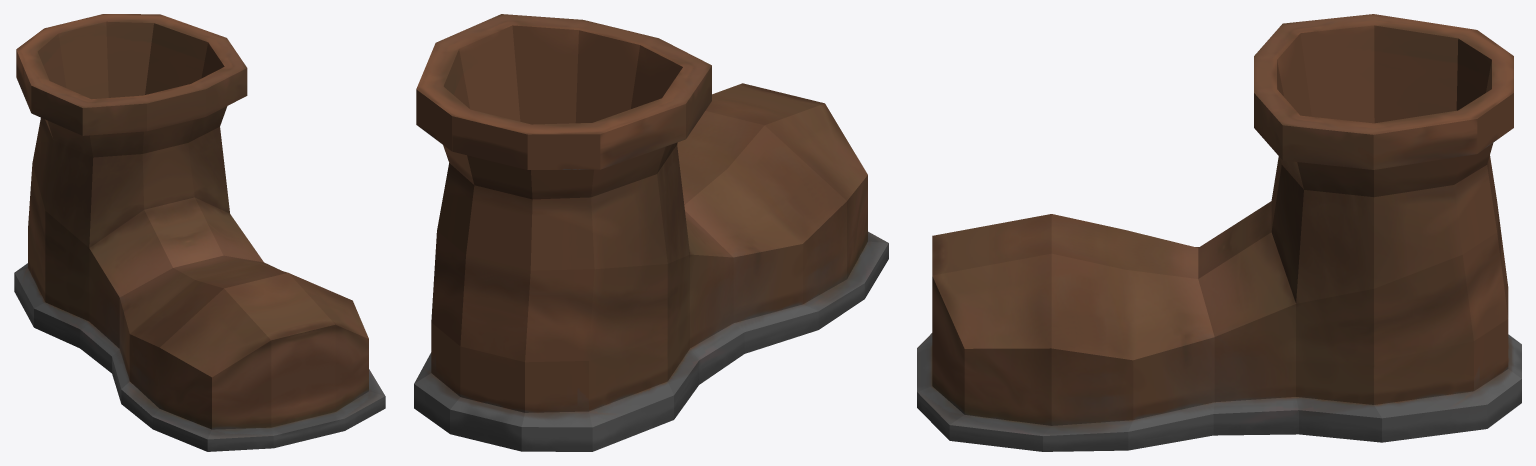
File: Boot.glb
The picture shows the model from 3 angles, left to right: view 1: azimuth 30°, elevation 25°; view 2: azimuth 150°, elevation 25°; view 3: azimuth 270°, elevation 25°; orthographic projection. The views are drawn at different scales.
Parts seen in each view (by area): view 1: Cube; view 2: Cube; view 3: Cube.
Boxes of the visible parts, <box> form: Cube: <box>14,14,385,451</box>; Cube: <box>414,14,888,451</box>; Cube: <box>917,14,1521,451</box>.
Size of the model in its own units: 2.82 by 3.1 by 5.46.
1 material, 1 textured.
